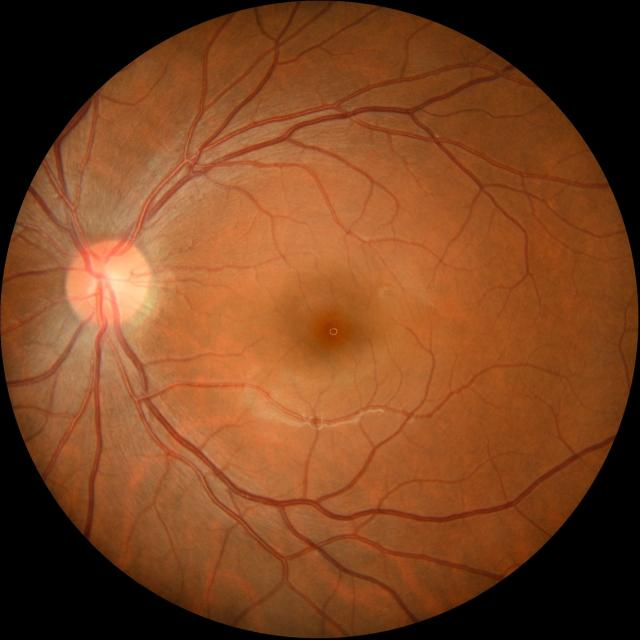OC: (90, 262, 124, 299)
OD: (68, 239, 148, 325)
